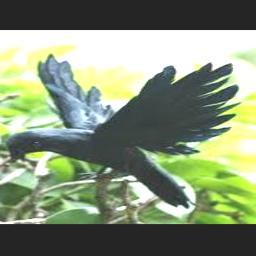Crow: (6, 52, 240, 209)
